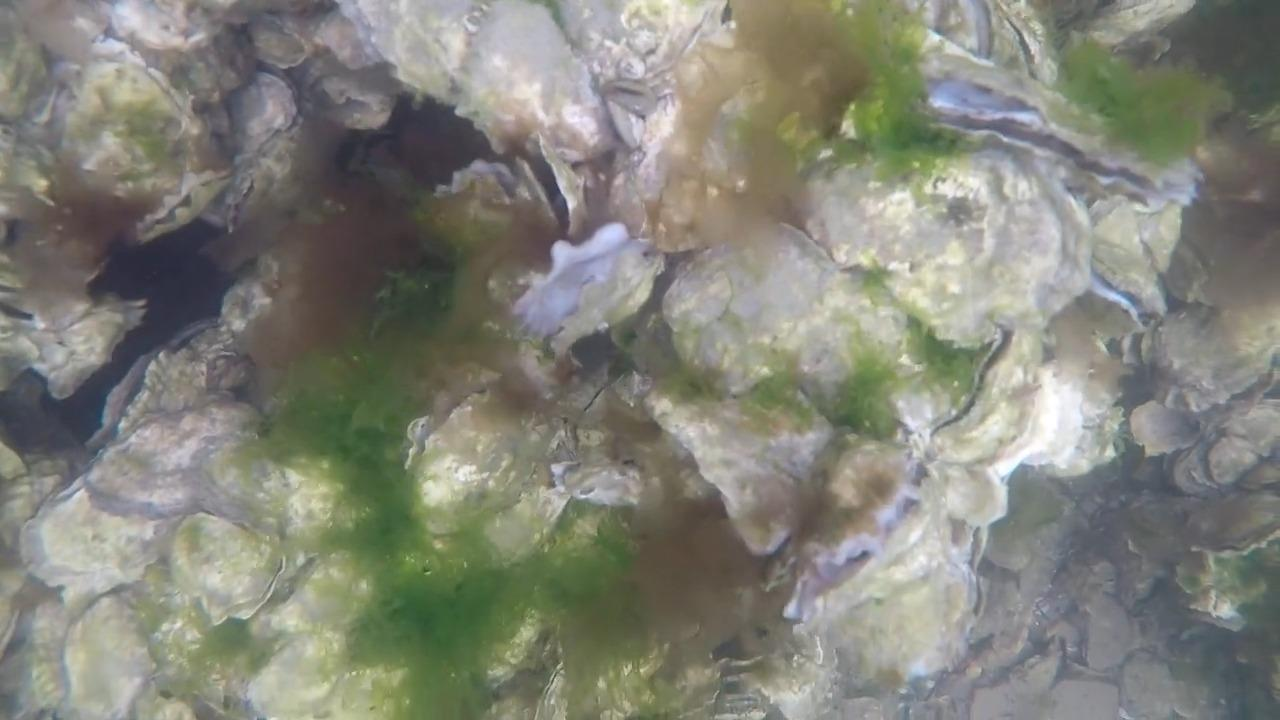Oyster: (833, 151, 1083, 345), (338, 0, 613, 161), (785, 473, 988, 691), (923, 68, 1203, 210), (657, 231, 878, 409), (639, 367, 836, 557), (909, 309, 1069, 482), (404, 386, 575, 546), (49, 53, 211, 221), (545, 599, 741, 720), (92, 401, 266, 522), (108, 317, 262, 446), (513, 222, 659, 358), (1141, 304, 1280, 430), (550, 0, 710, 103), (24, 476, 160, 585), (159, 509, 288, 623), (10, 291, 133, 405), (167, 509, 292, 620), (54, 589, 162, 716), (239, 625, 370, 720), (413, 161, 536, 261), (653, 253, 759, 366), (1084, 193, 1180, 314), (730, 633, 835, 720), (130, 166, 230, 249), (302, 57, 403, 131), (518, 132, 585, 243), (1182, 482, 1280, 556), (289, 6, 388, 78), (979, 489, 1060, 577), (221, 68, 301, 157), (1120, 499, 1207, 575), (984, 0, 1063, 82), (101, 0, 212, 58), (1117, 647, 1206, 719), (1075, 582, 1139, 671), (935, 459, 1012, 531), (246, 14, 322, 71), (1127, 398, 1199, 458), (1202, 430, 1271, 490), (218, 155, 271, 231)
